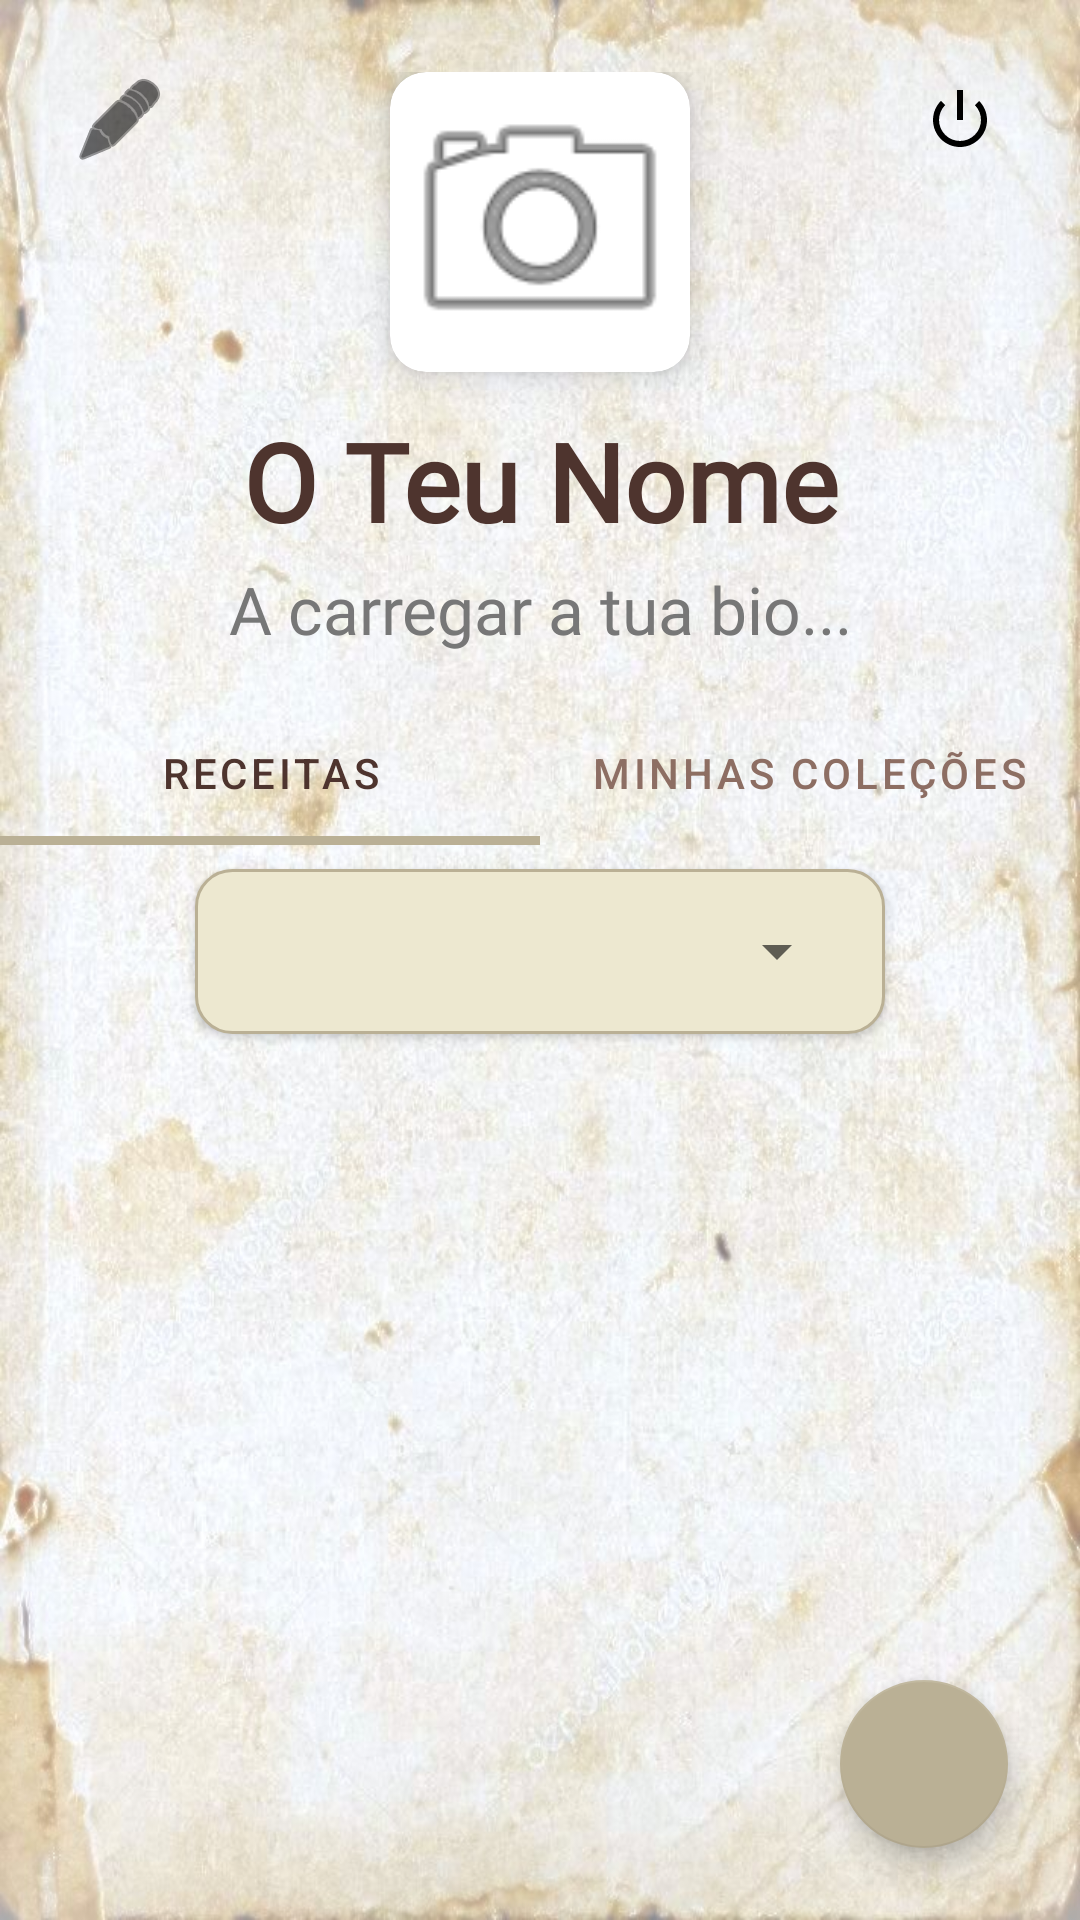

Locate icon controls on the screen. Image size 1080px×1920px, boxes as (x1, y1, x2, y2).
camera: (390, 72, 690, 372)
Editar Perfil: (79, 75, 187, 160)
